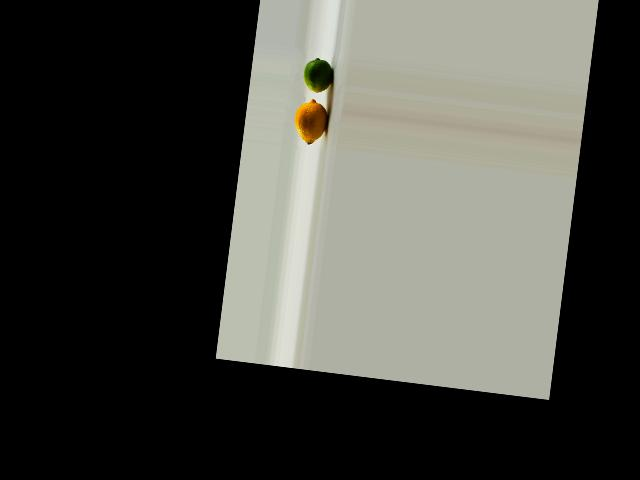lemon: (290, 99, 330, 145)
